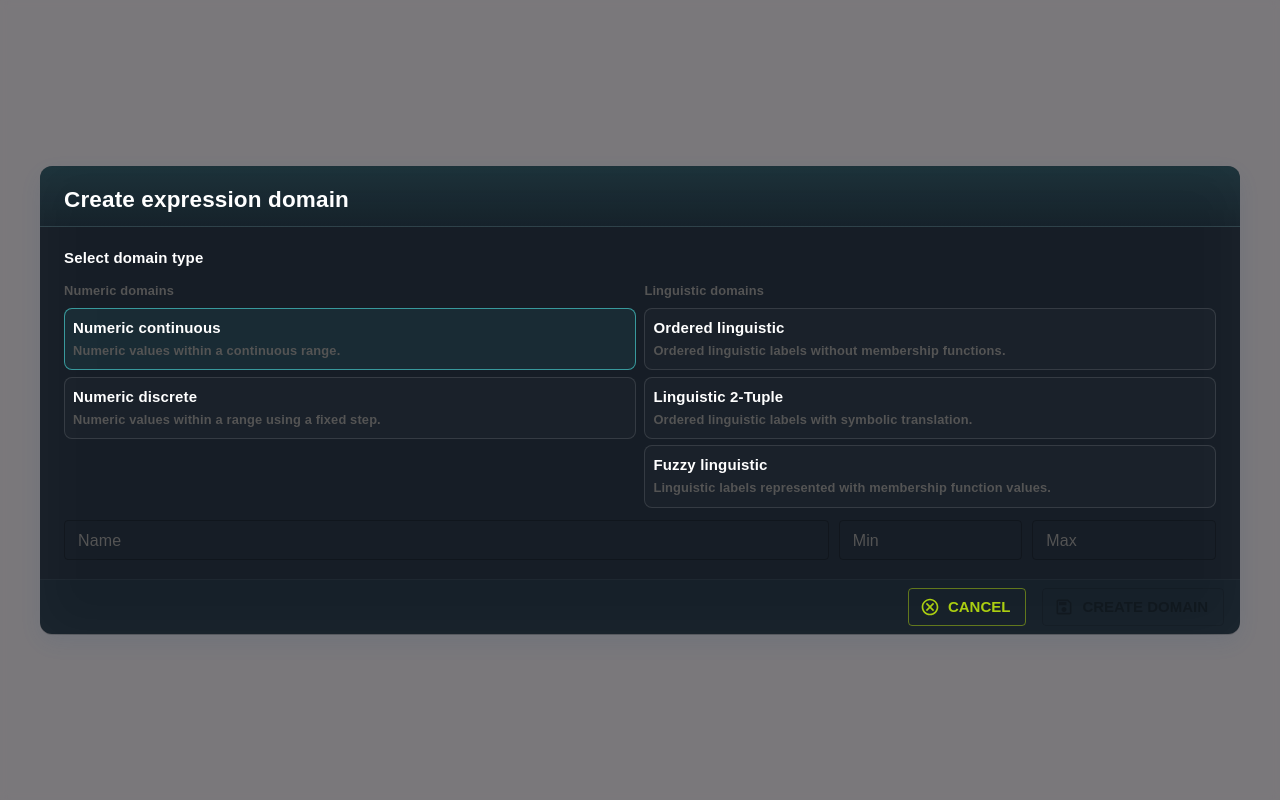
CreateExpressionDomainDialog › keeps the selected numeric form below the selector when changing types
Click the button "Numeric discrete" at (135,396), box [64,377,636,439]
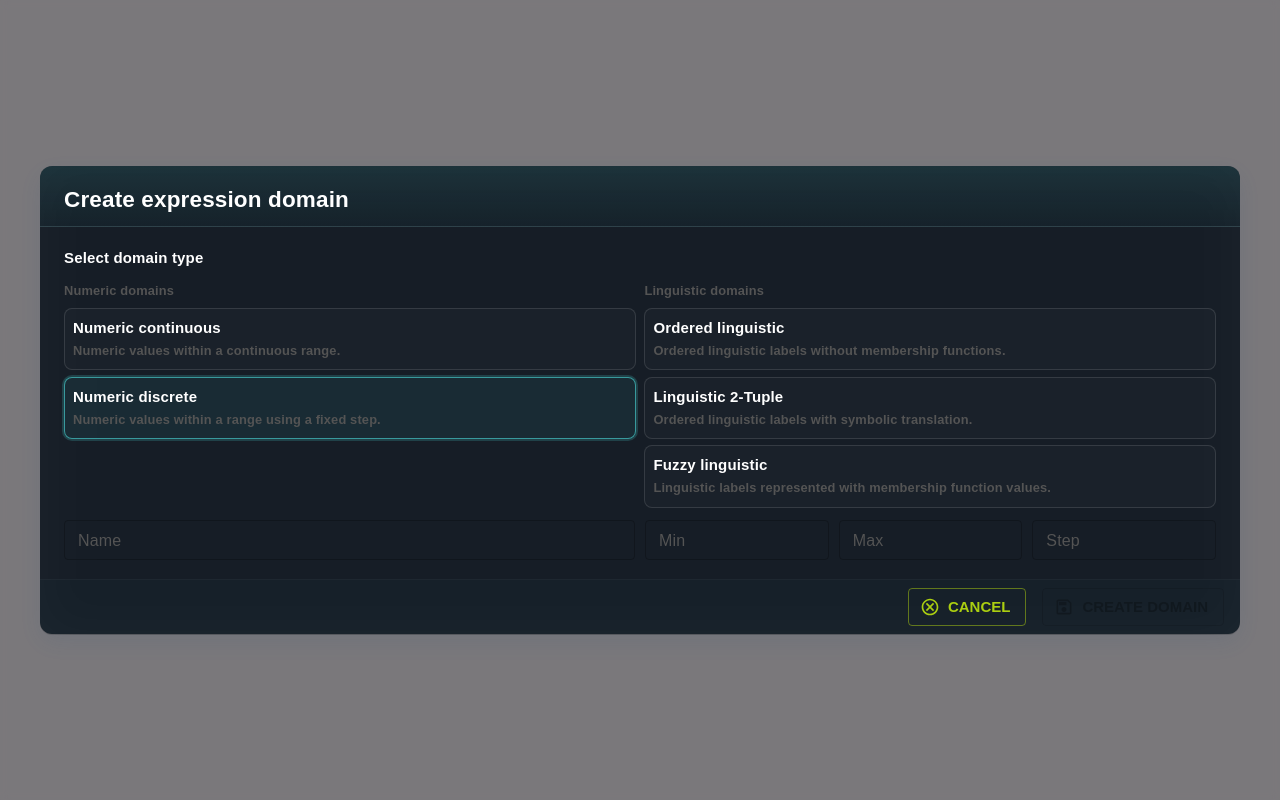
Now the number field labelled "Step" is shown, box [1032,520,1216,560]
